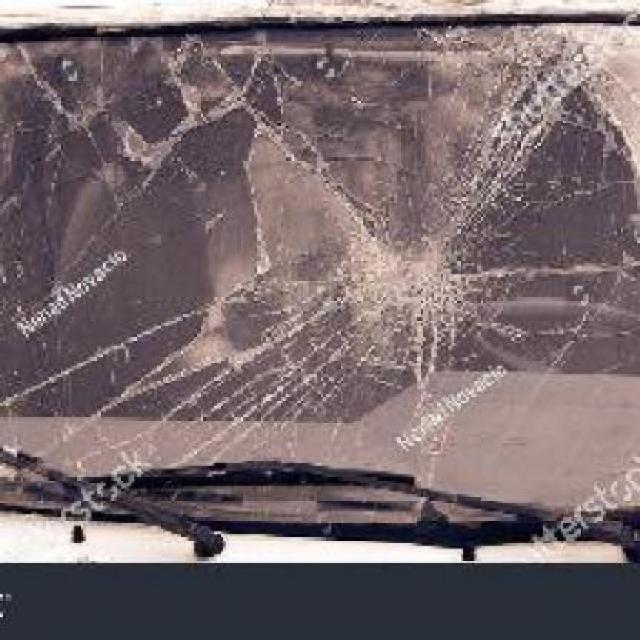damaged-windscreen: (0, 14, 637, 543)
